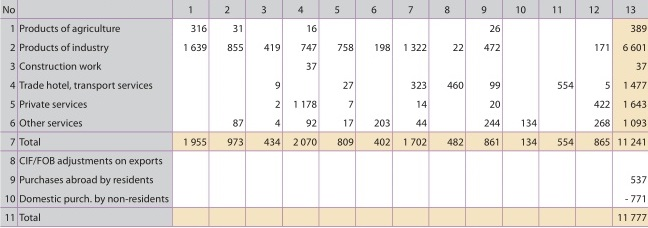column: (19, 2, 169, 228), (617, 1, 648, 228), (184, 1, 207, 228), (403, 1, 426, 228), (552, 1, 575, 228), (294, 2, 317, 228), (516, 1, 537, 228), (589, 1, 610, 228), (224, 1, 243, 228), (261, 1, 280, 228), (335, 1, 354, 228), (371, 1, 390, 228), (445, 1, 463, 228), (482, 1, 499, 228), (2, 1, 15, 226)
row: (1, 137, 648, 148), (1, 156, 648, 167), (1, 23, 648, 33), (1, 100, 648, 110), (1, 118, 648, 128), (1, 175, 648, 185), (1, 5, 648, 14), (1, 43, 648, 52), (1, 62, 648, 71), (1, 81, 648, 90), (1, 195, 648, 204), (2, 213, 648, 221)
